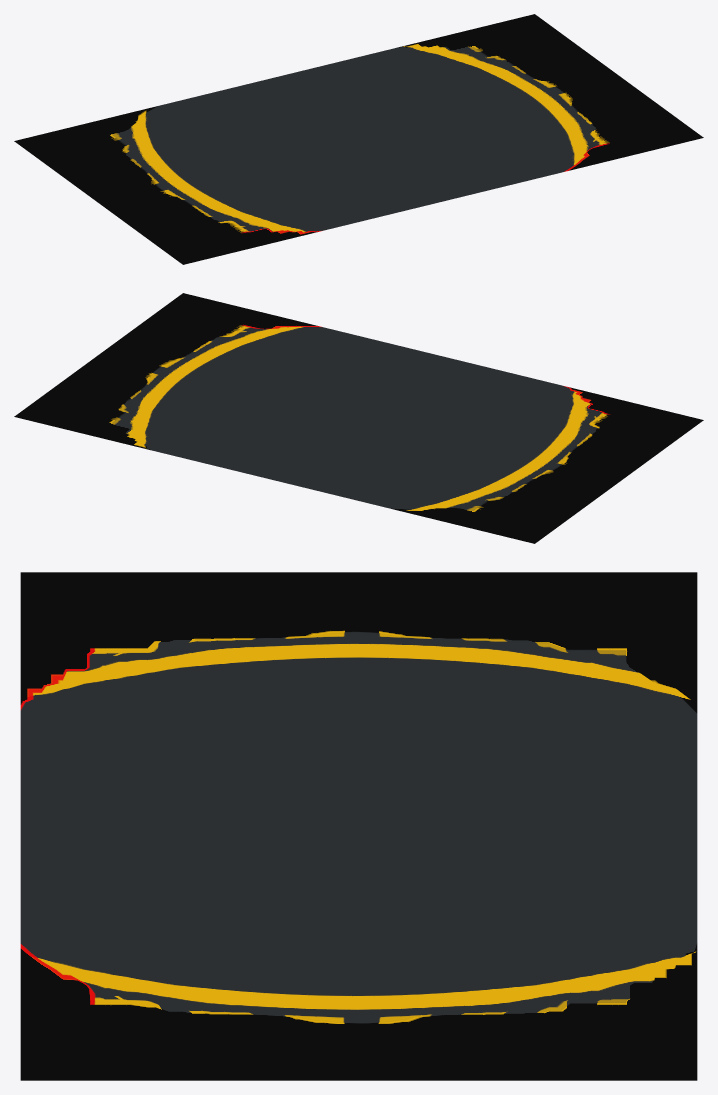
File: plane_single.gltf
3 renders of one model, top to bottom at view 1: azimuth 30°, elevation 25°; view 2: azimuth 150°, elevation 25°; view 3: azimuth 270°, elevation 25°, orthographic. The views are drawn at different scales.
Parts seen in each view (by area): view 1: front_vline; view 2: front_vline; view 3: front_vline.
Part boxes in pixels (box(x1,y1,x2,y2)): front_vline: box(14, 14, 703, 264); front_vline: box(14, 293, 703, 543); front_vline: box(20, 572, 697, 1080).
Size of the model in its own units: 12.8 by 0 by 7.2.
Materials: 1 (1 with a texture image).
